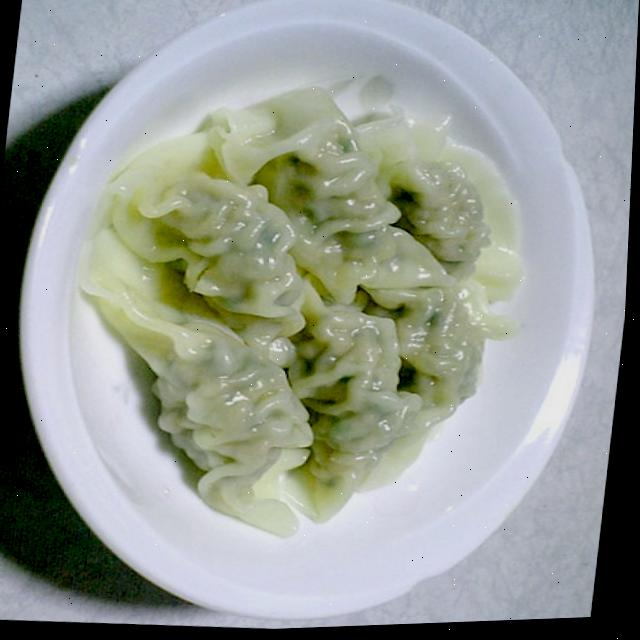带馅早点: (7, 0, 612, 605)
